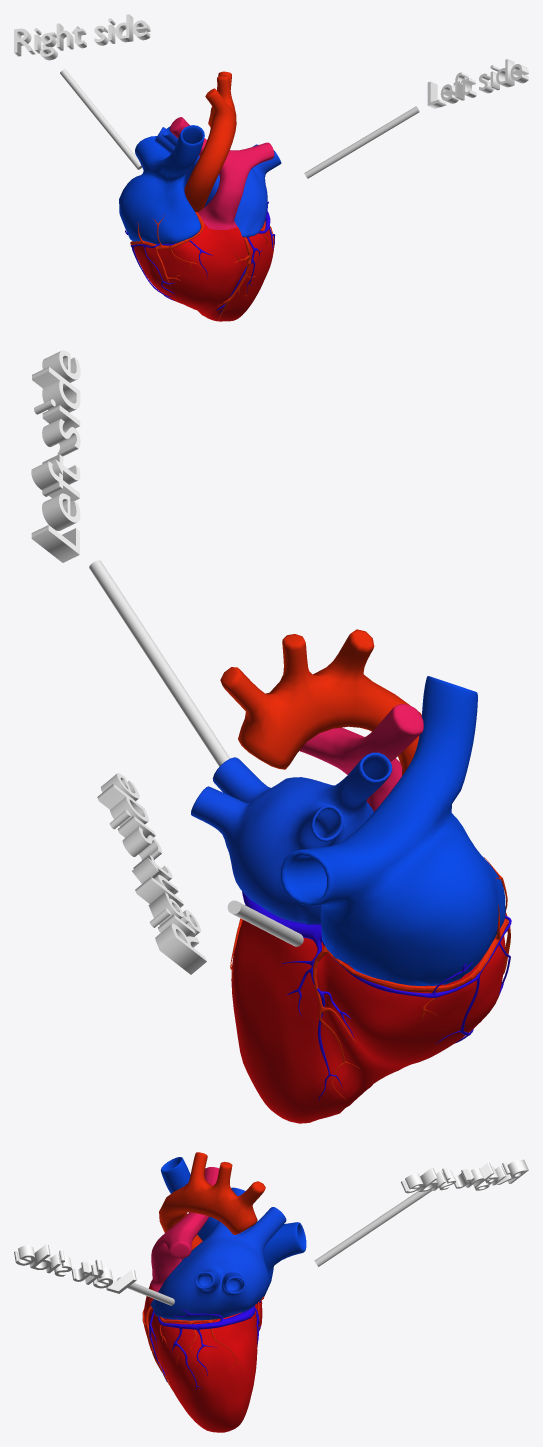
3 views of the same model, one above another, from view 1: azimuth 30°, elevation 25°; view 2: azimuth 150°, elevation 25°; view 3: azimuth 270°, elevation 25° (orthographic). The views are drawn at different scales.
Parts seen in each view (by area): view 1: Ventriculos, Text, Text.001; view 2: Ventriculos, Text.001, Text; view 3: Ventriculos, Text.001, Text.
Part boxes in pixels (<box>): Ventriculos: <box>60,69,419,321</box>; Text: <box>14,14,150,60</box>; Text.001: <box>427,59,528,108</box>; Ventriculos: <box>89,560,511,1123</box>; Text.001: <box>31,350,80,562</box>; Text: <box>97,773,206,974</box>; Ventriculos: <box>116,1152,432,1432</box>; Text.001: <box>14,1244,136,1293</box>; Text: <box>401,1159,528,1193</box>.
Size of the model in its own units: 22.06 by 18.07 by 28.29.
